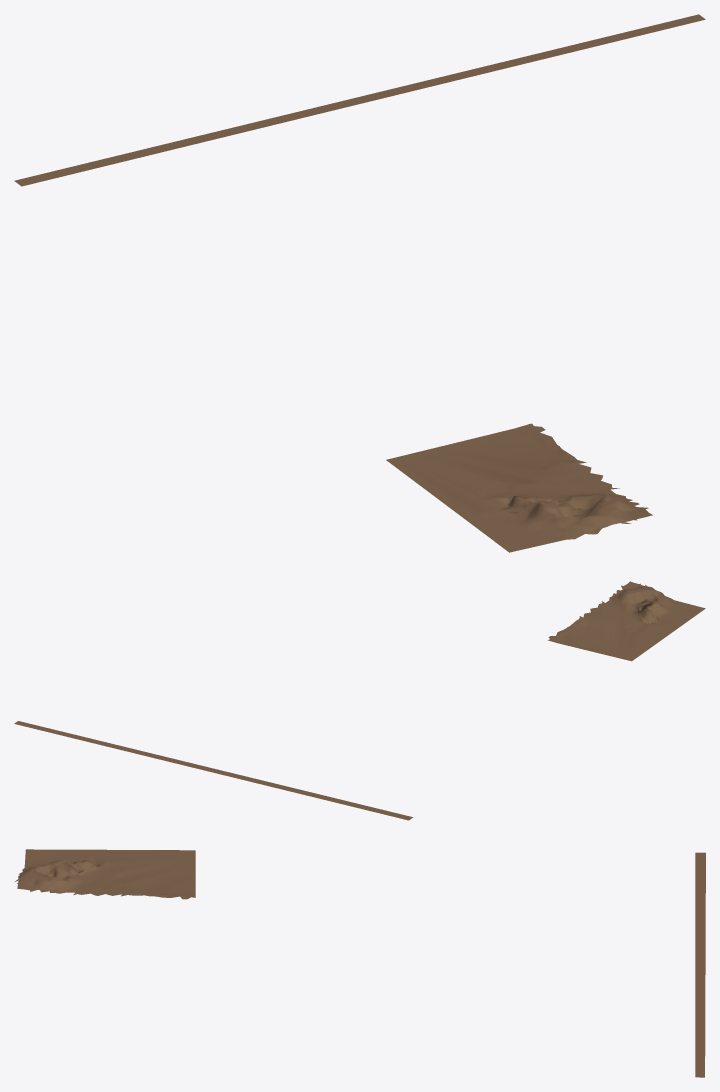
File: morro_de_arica_v4_opt.fbx
3 views of the same model, one above another, from view 1: azimuth 30°, elevation 25°; view 2: azimuth 150°, elevation 25°; view 3: azimuth 270°, elevation 25° (orthographic). The views are drawn at different scales.
Visible parts, largest first — view 1: Cortado__m______scara__1; view 2: Cortado__m______scara__1; view 3: Cortado__m______scara__1.
Part boxes in pixels (x1=…): Cortado__m______scara__1: x1=14, y1=14, x2=705, y2=552; Cortado__m______scara__1: x1=14, y1=581, x2=705, y2=820; Cortado__m______scara__1: x1=15, y1=849, x2=705, y2=1077.
Size of the model in its own units: 275784 by 6629 by 353627.
